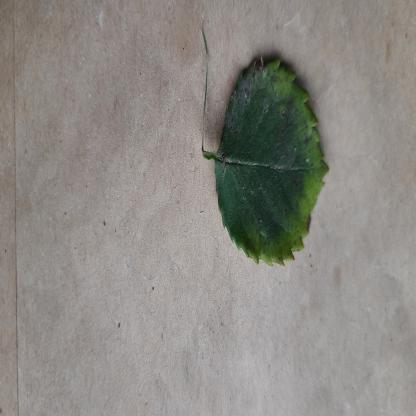downy-mildew: (211, 52, 325, 268)
